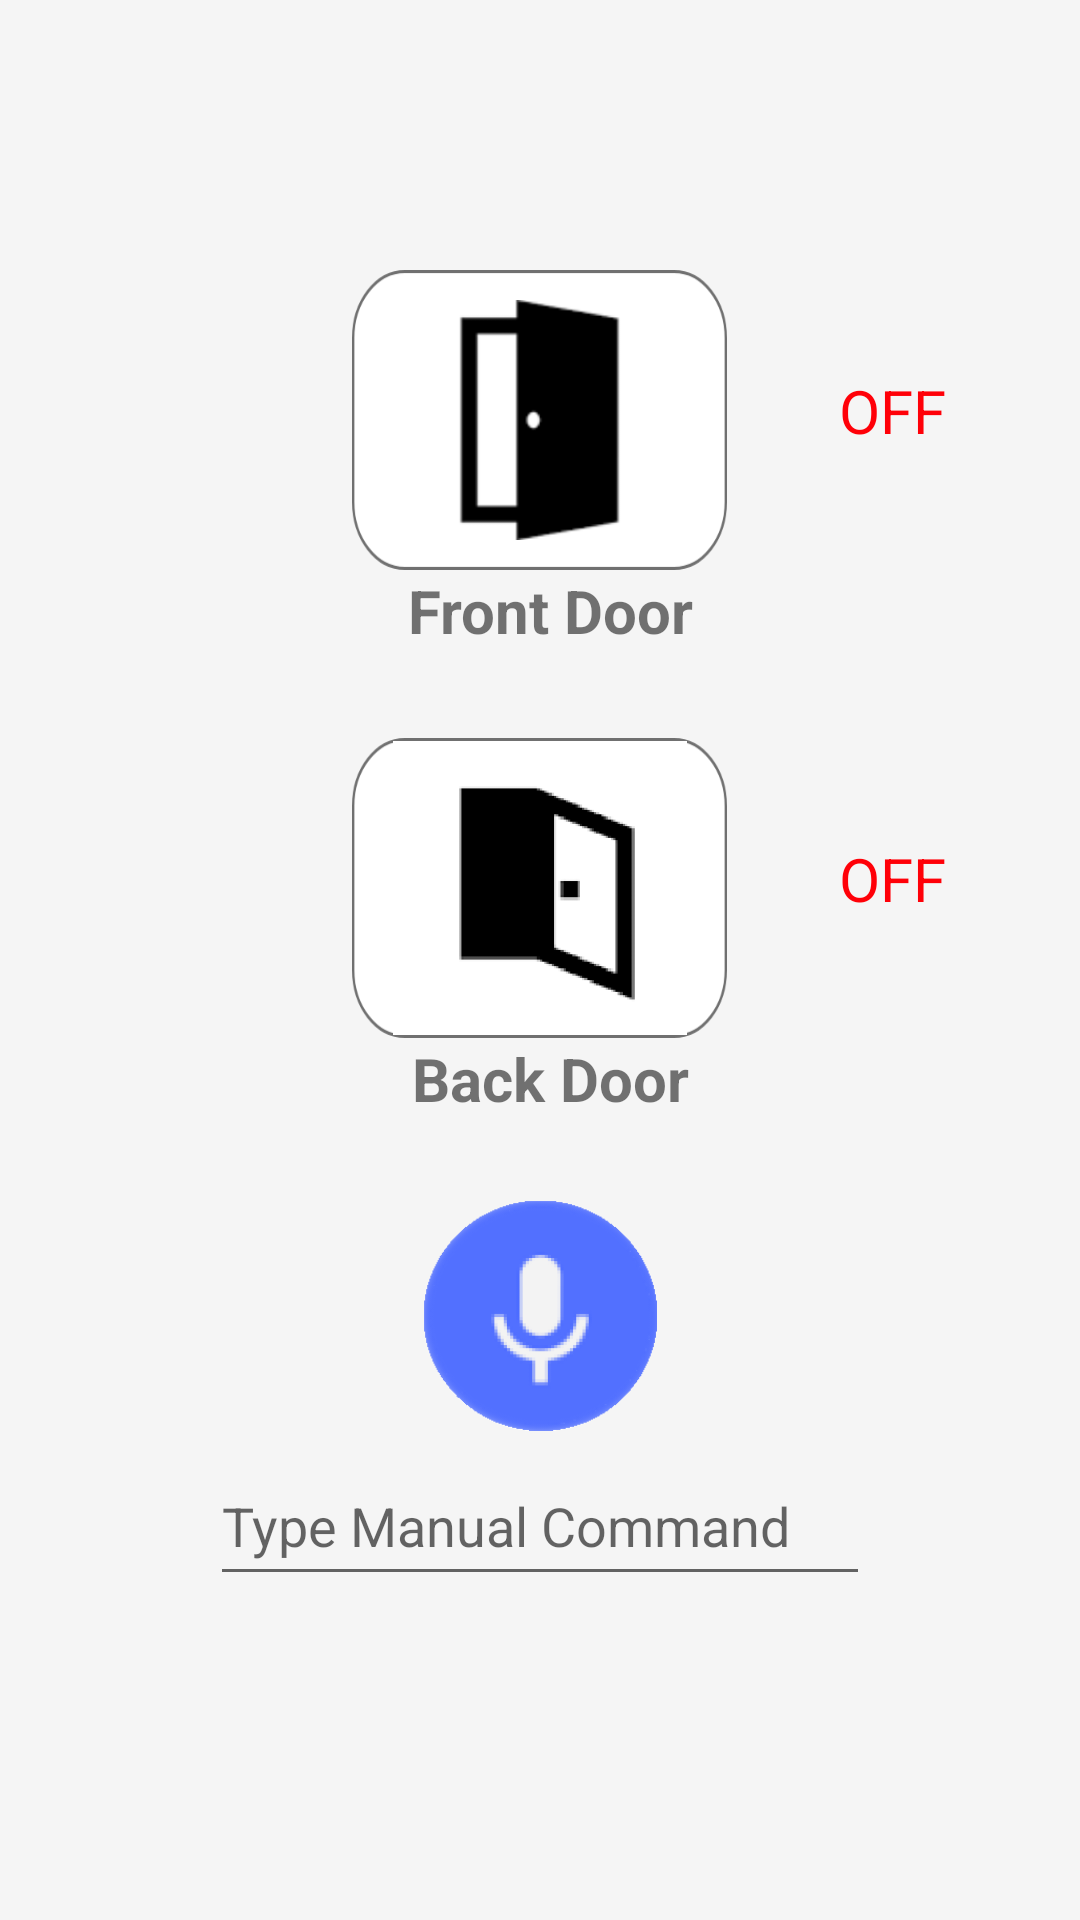

Where to tap for icons on this 1080x1920 app screen, as [x,y]:
Door Micro: [540,1316]
